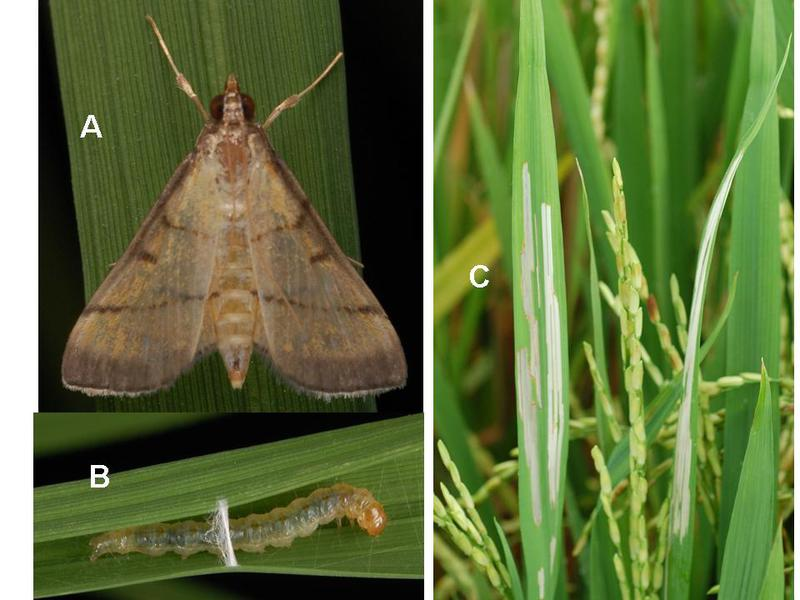Leaf_folder: (111, 84, 401, 398), (93, 483, 389, 565), (512, 218, 580, 544)
